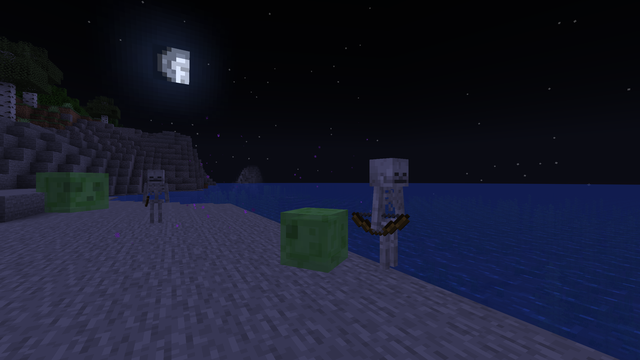slimes: (281, 205, 351, 273), (38, 170, 103, 212)
squelettes: (365, 158, 412, 275), (146, 169, 165, 224)
